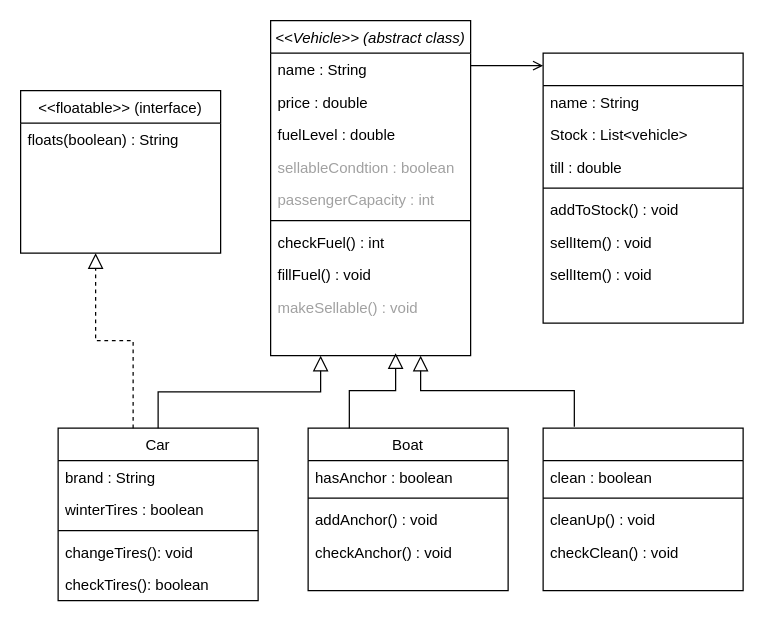
Image size: 764x621. Some labels were removed from this diagram. Here are the shapes that lost their labels. From the top down, the box of each, then its label:
(542, 52, 743, 323): GarageShop
(542, 427, 743, 591): Campervan
